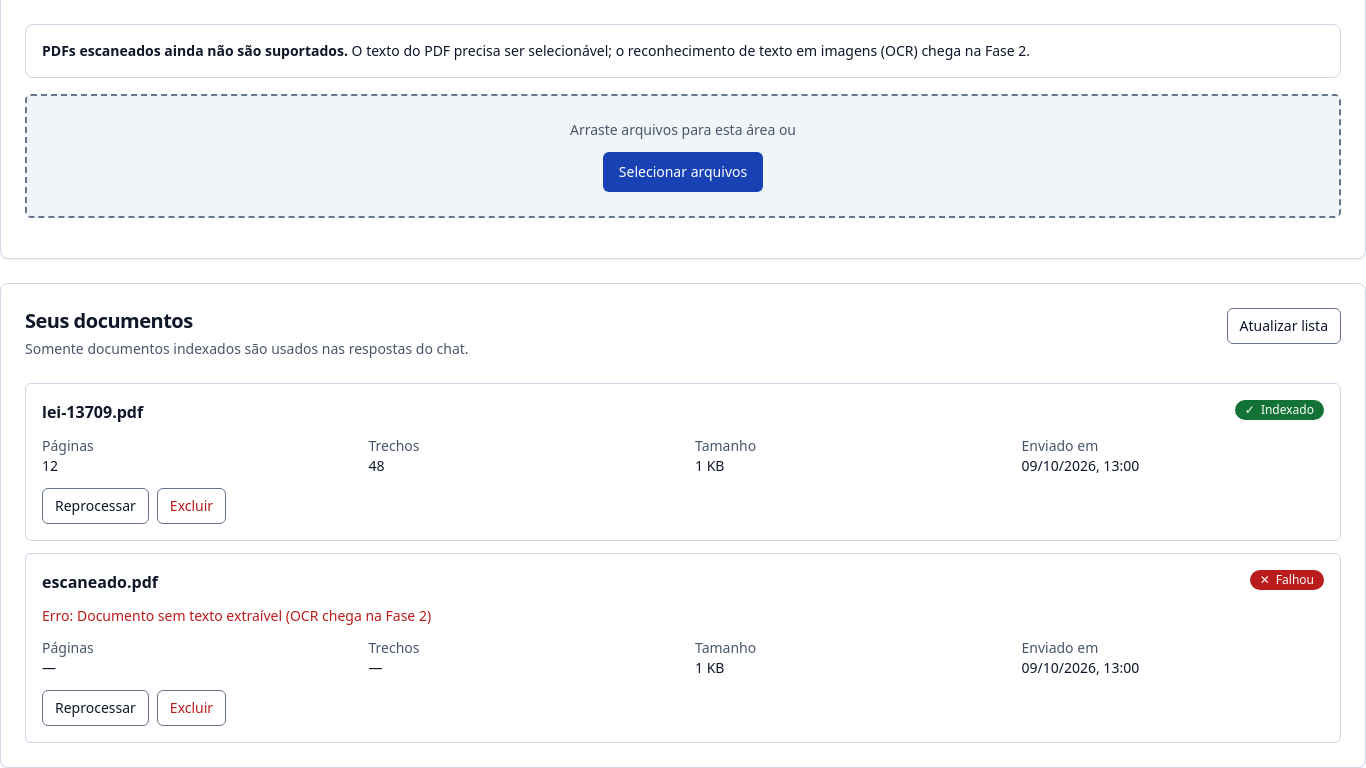
Test: DocumentsScreen › reprocessa documento com falha
(page scrolled)
Expected: the list item with test id "document-doc-2" is shown, [25,553,1341,743]
Click the button named "Reprocessar escaneado.pdf": coordinates (95, 708) [42,690,149,726]
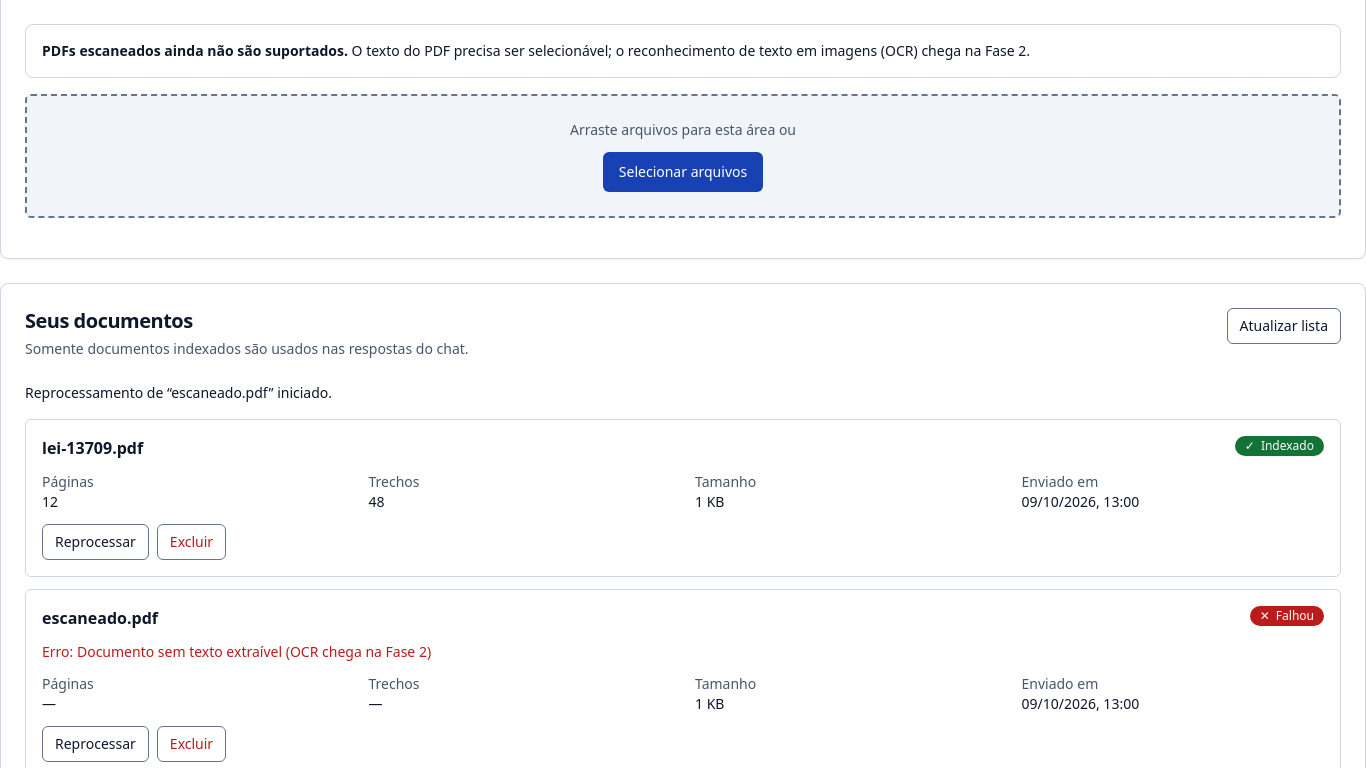
Result: the text "Reprocessamento de “escaneado.pdf” iniciado." is shown at [25,383,332,402]
